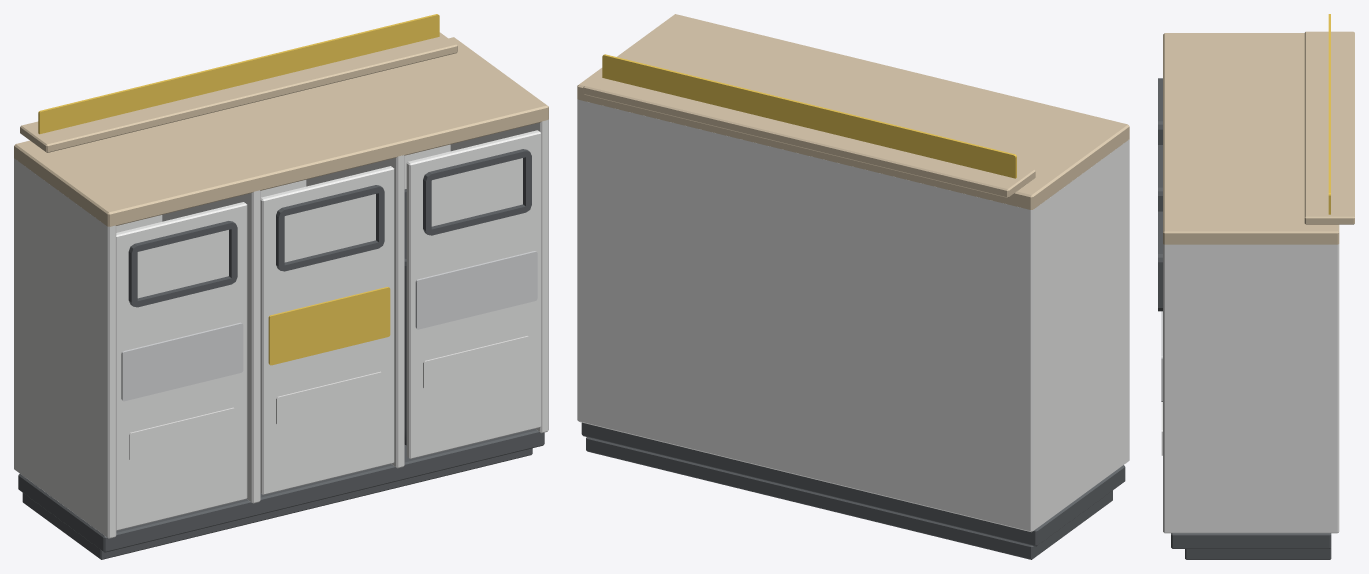
Rendered from laundrette-and-cleaning-recycling-bank-3-stream-1c73cb5d__25592.glb.
The picture shows the model from 3 angles, left to right: view 1: azimuth 30°, elevation 25°; view 2: azimuth 150°, elevation 25°; view 3: azimuth 270°, elevation 25°; orthographic projection. The views are drawn at different scales.
Parts seen in each view (by area): view 1: recycling-bank-3-stream; view 2: recycling-bank-3-stream; view 3: recycling-bank-3-stream.
Boxes of the visible parts, x1,y1,x2,y2 form: recycling-bank-3-stream: (14, 14, 548, 559); recycling-bank-3-stream: (577, 14, 1129, 559); recycling-bank-3-stream: (1158, 14, 1354, 559).
Size of the model in its own units: 1.5 by 1.26 by 0.626.
